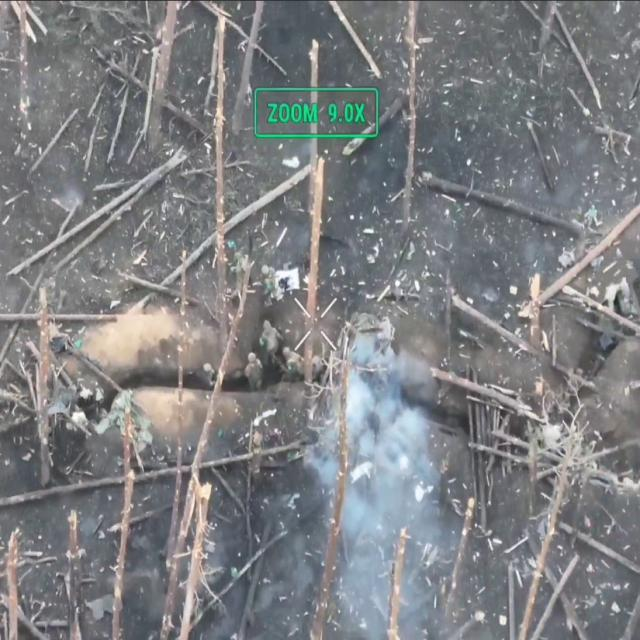fortification: (228, 317, 386, 425), (528, 270, 632, 424), (502, 393, 640, 506), (344, 363, 535, 441), (101, 335, 259, 426), (4, 362, 150, 456)
infantry: (277, 338, 308, 386), (254, 312, 283, 363), (243, 346, 265, 391), (193, 358, 223, 390)
